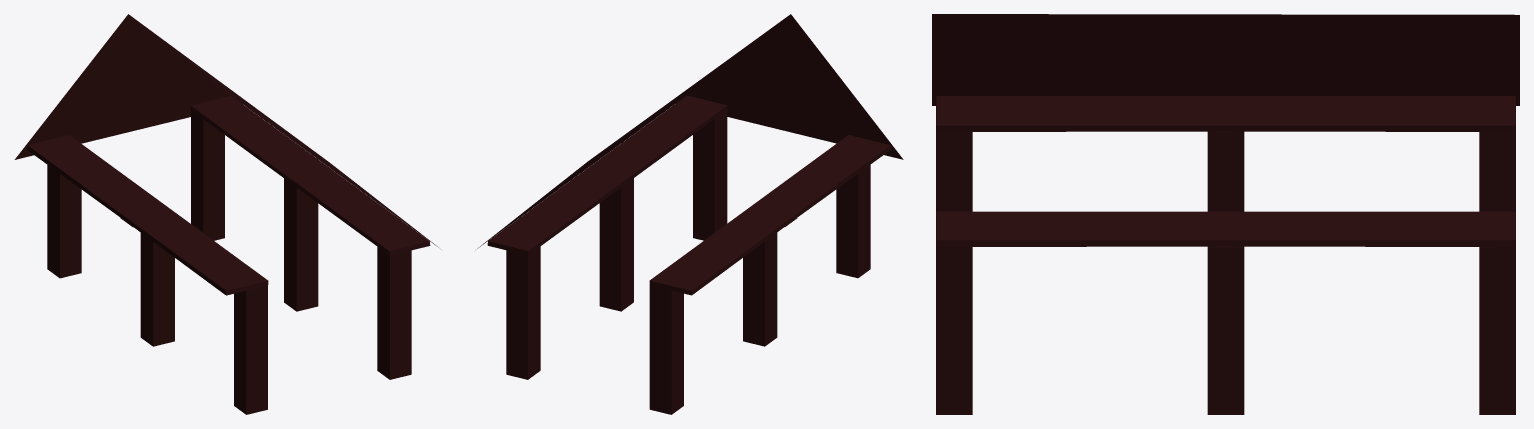
Rendered from shelter 1.fbx.
3 renders of one model, left to right at view 1: azimuth 30°, elevation 25°; view 2: azimuth 150°, elevation 25°; view 3: azimuth 270°, elevation 25°, orthographic. The views are drawn at different scales.
Visible parts, largest first — view 1: Cube; view 2: Cube; view 3: Cube.
Boxes of the visible parts, x1,y1,x2,y2 form: Cube: (14,14,438,414); Cube: (477,14,903,414); Cube: (932,14,1519,414).
Size of the model in its own units: 2105 by 2061 by 3218.
